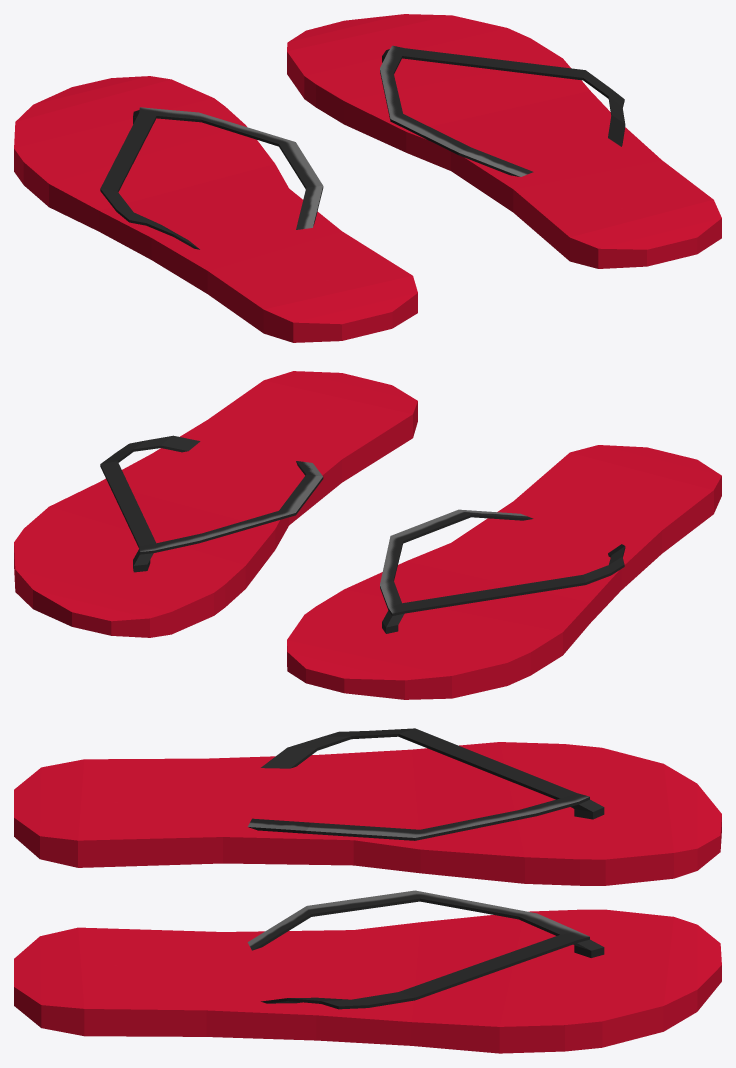
File: Chanclas.FBX
The picture shows the model from 3 angles, top to bottom: view 1: azimuth 30°, elevation 25°; view 2: azimuth 150°, elevation 25°; view 3: azimuth 270°, elevation 25°; orthographic projection. The views are drawn at different scales.
Visible parts, largest first — view 1: Cube; view 2: Cube; view 3: Cube.
Part boxes in pixels (<box>): Cube: <box>14,14,721,342</box>; Cube: <box>14,371,721,699</box>; Cube: <box>14,728,721,1053</box>.
Size of the model in its own units: 74.07 by 5.88 by 77.77.
1 material, 1 textured.
